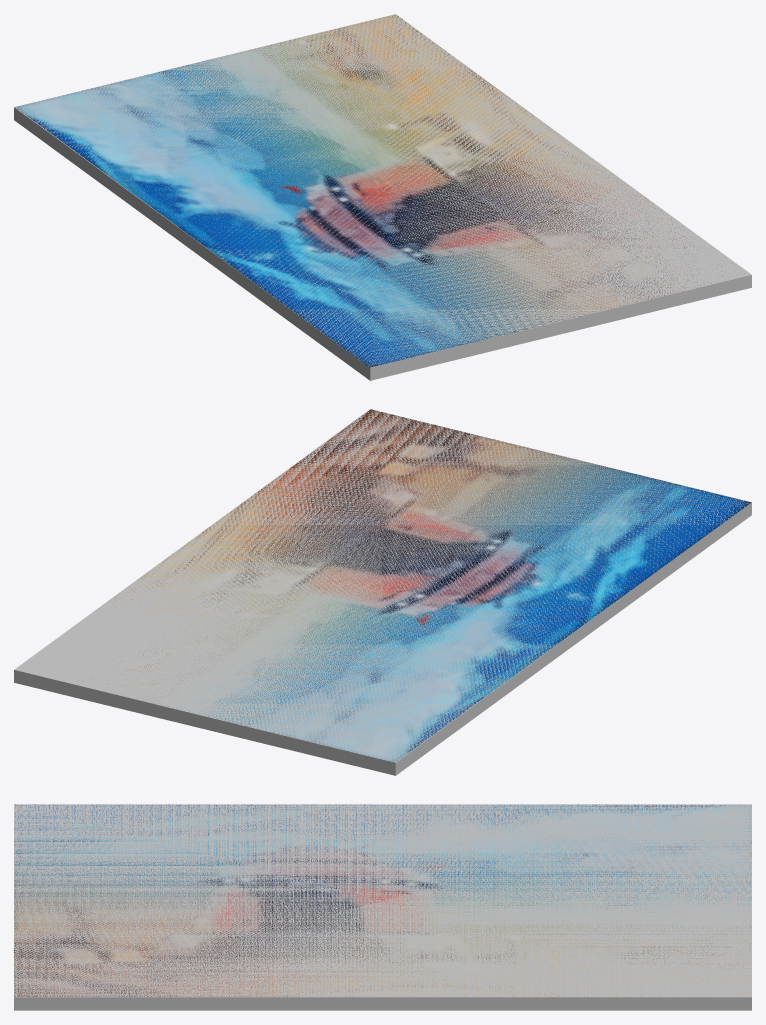
Rendered from menu.DAE.
3 renders of one model, top to bottom at view 1: azimuth 30°, elevation 25°; view 2: azimuth 150°, elevation 25°; view 3: azimuth 270°, elevation 25°, orthographic. The views are drawn at different scales.
Visible parts, largest first — view 1: menu100, bounds; view 2: bounds, menu100; view 3: bounds, menu100.
Part boxes in pixels (x1,y1,x2,y2): menu100: (15,15,723,367); bounds: (14,14,751,380); bounds: (14,409,751,775); menu100: (61,409,751,762); bounds: (14,804,751,1010); menu100: (14,804,751,996).
Bounding box in the file's own units: 27.54 × 44.51 × 0.891.
